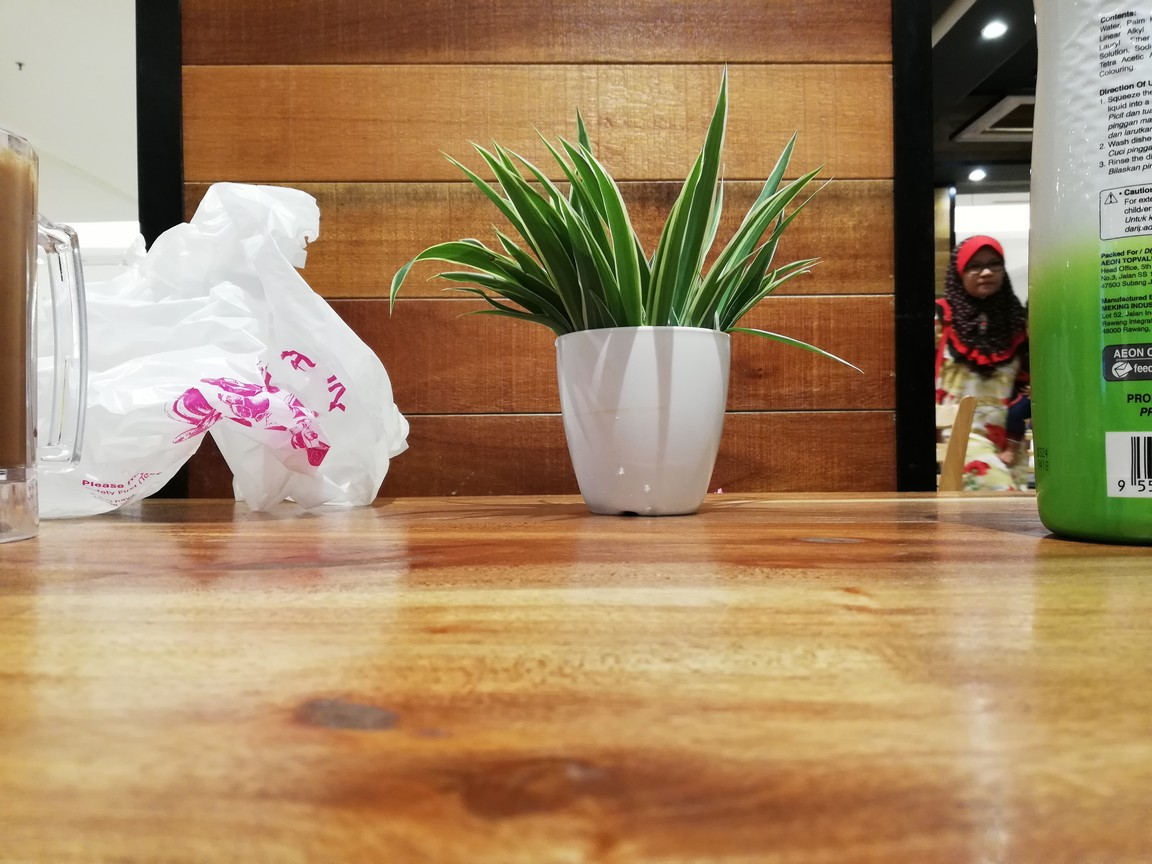daun: (735, 326, 867, 374), (576, 140, 618, 198), (705, 61, 728, 150), (766, 127, 799, 184), (792, 175, 835, 217), (500, 144, 546, 182), (439, 147, 475, 186), (588, 289, 619, 333), (391, 258, 414, 316), (529, 123, 555, 166), (788, 163, 827, 184), (466, 137, 492, 168), (713, 163, 725, 228), (554, 132, 576, 164), (779, 256, 823, 272), (489, 223, 514, 249), (426, 271, 484, 281), (486, 132, 506, 159), (449, 308, 494, 320), (439, 285, 485, 296), (575, 104, 588, 141), (458, 239, 485, 251), (647, 244, 657, 268)
